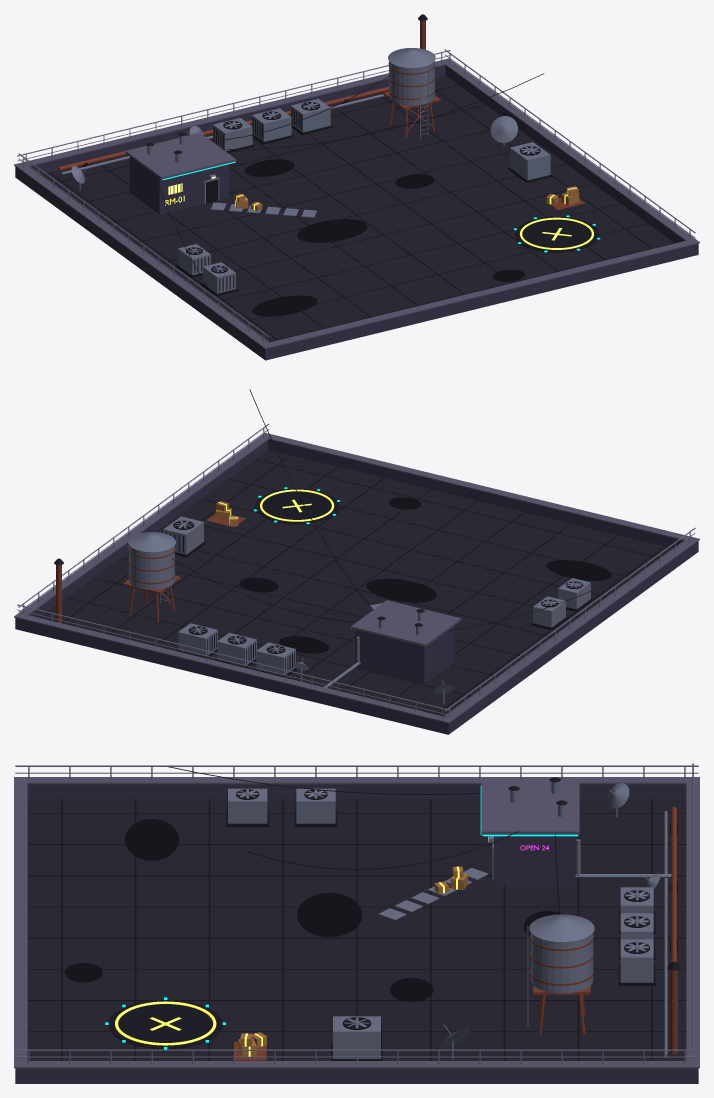
File: rooftop.glb
The picture shows the model from 3 angles, top to bottom: view 1: azimuth 30°, elevation 25°; view 2: azimuth 150°, elevation 25°; view 3: azimuth 270°, elevation 25°; orthographic projection. The views are drawn at different scales.
Parts seen in each view (by area): view 1: roof_floor, roof_concrete, roof_metal, roof_cap, roof_joint, roof_dark, roof_puddle, roof_rust, roof_kraft, roof_paint; view 2: roof_floor, roof_concrete, roof_cap, roof_metal, roof_joint, roof_dark, roof_puddle, roof_rust, roof_paint; view 3: roof_floor, roof_cap, roof_metal, roof_concrete, roof_joint, roof_dark, roof_puddle, roof_rust, roof_kraft, roof_paint.
Part boxes in pixels (<box>): roof_floor: <box>40,75,674,341</box>; roof_concrete: <box>15,65,698,360</box>; roof_metal: <box>17,48,695,343</box>; roof_cap: <box>14,58,699,349</box>; roof_joint: <box>49,85,673,342</box>; roof_dark: <box>82,14,598,296</box>; roof_puddle: <box>244,159,524,316</box>; roof_rust: <box>58,20,585,209</box>; roof_kraft: <box>234,186,579,210</box>; roof_paint: <box>165,195,593,249</box>; roof_floor: <box>39,450,673,715</box>; roof_concrete: <box>15,439,698,734</box>; roof_cap: <box>14,432,699,723</box>; roof_metal: <box>17,423,695,718</box>; roof_joint: <box>40,455,664,716</box>; roof_dark: <box>54,389,637,677</box>; roof_puddle: <box>239,497,611,653</box>; roof_rust: <box>56,514,422,711</box>; roof_paint: <box>260,489,334,521</box>; roof_floor: <box>27,798,686,1060</box>; roof_cap: <box>14,777,699,1068</box>; roof_metal: <box>15,763,698,1064</box>; roof_concrete: <box>15,784,698,1083</box>; roof_joint: <box>27,799,686,1060</box>; roof_dark: <box>108,766,680,1060</box>; roof_puddle: <box>64,819,562,1001</box>; roof_rust: <box>234,807,677,1060</box>; roof_kraft: <box>238,866,468,1057</box>; roof_paint: <box>115,836,493,1045</box>.
Size of the model in its own units: 50.2 by 15.03 by 50.2.
